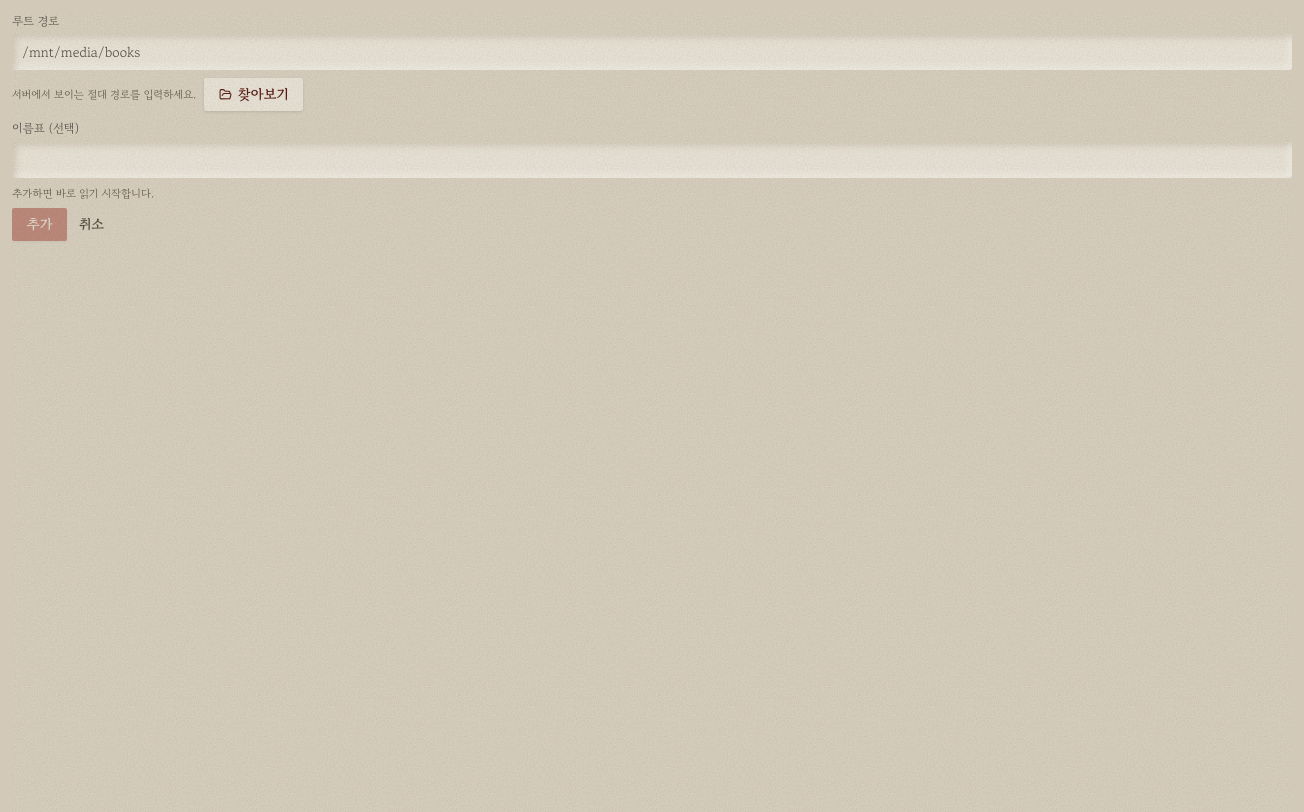
Test case: AddRootForm › keeps the typed field usable — it reaches directories the picker cannot
Outside every `server.browse_bases`, which the picker refuses by design.
Type "/srv/elsewhere" into the field labelled "루트 경로" at (652, 52), box [12,34,1292,70]
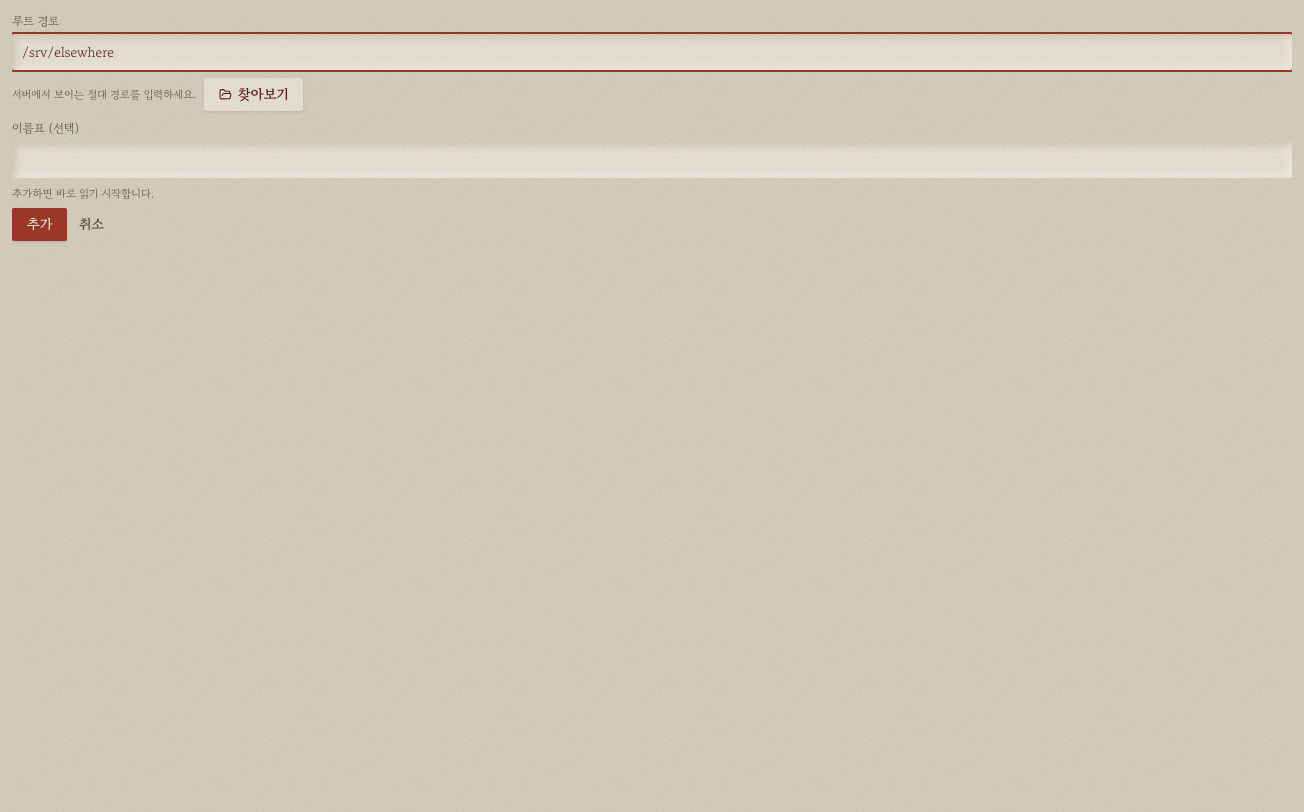
Check: the button "추가" is enabled, box [12,208,67,241]
